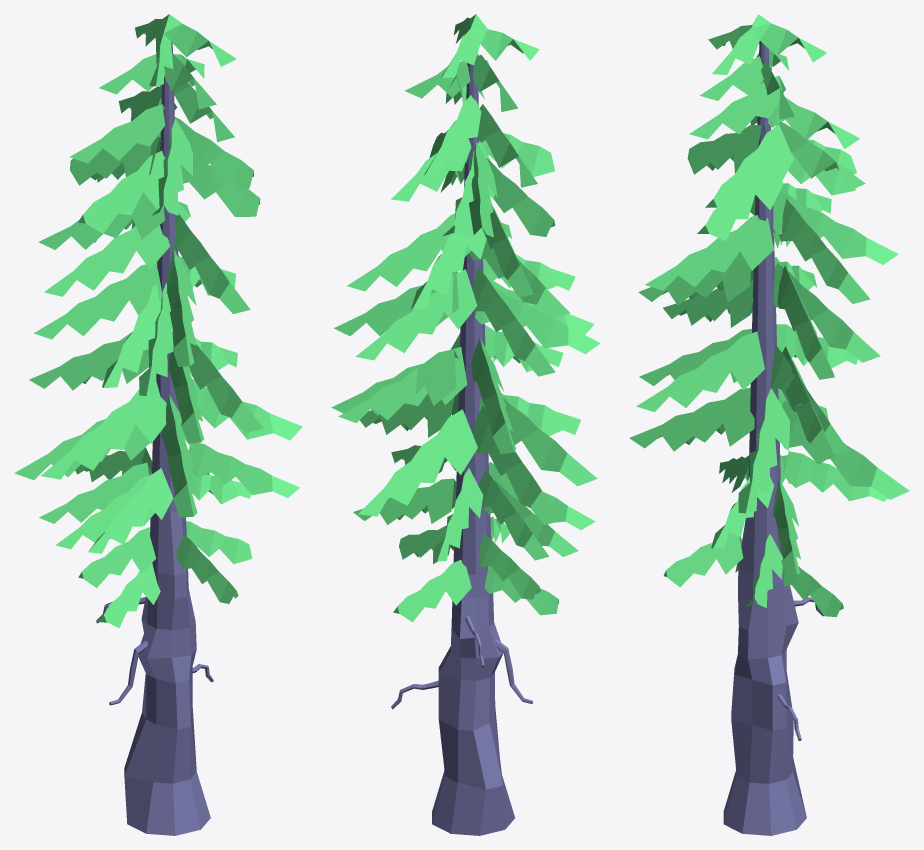
The model's file is SM_Tree_06.fbx.
The picture shows the model from 3 angles, left to right: view 1: azimuth 30°, elevation 25°; view 2: azimuth 150°, elevation 25°; view 3: azimuth 270°, elevation 25°; orthographic projection.
Parts seen in each view (by area): view 1: Tree Type0 03 Model; view 2: Tree Type0 03 Model; view 3: Tree Type0 03 Model.
Part boxes in pixels (x1,y1,x2,y2): Tree Type0 03 Model: [14, 14, 302, 835]; Tree Type0 03 Model: [331, 14, 600, 835]; Tree Type0 03 Model: [629, 14, 909, 835].
Size of the model in its own units: 278 by 847 by 269.
